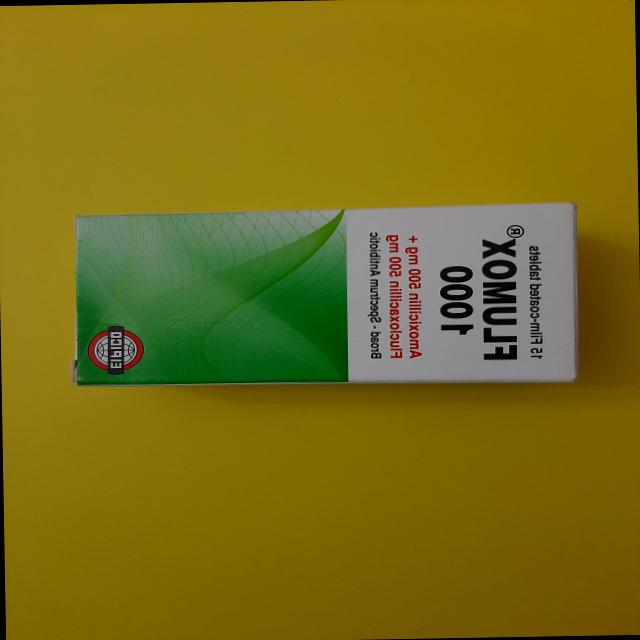medicine_packaging: (55, 190, 596, 408)
